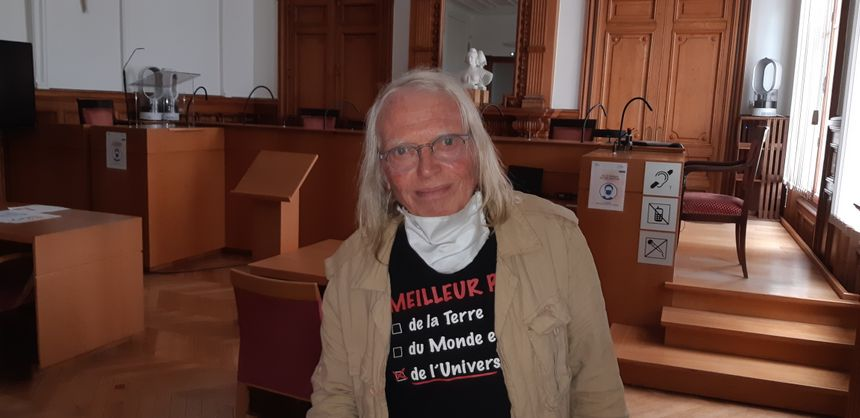with_incorrect_mask: (376, 119, 495, 273)
